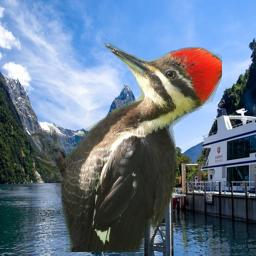Woodpecker: (31, 43, 222, 252)
